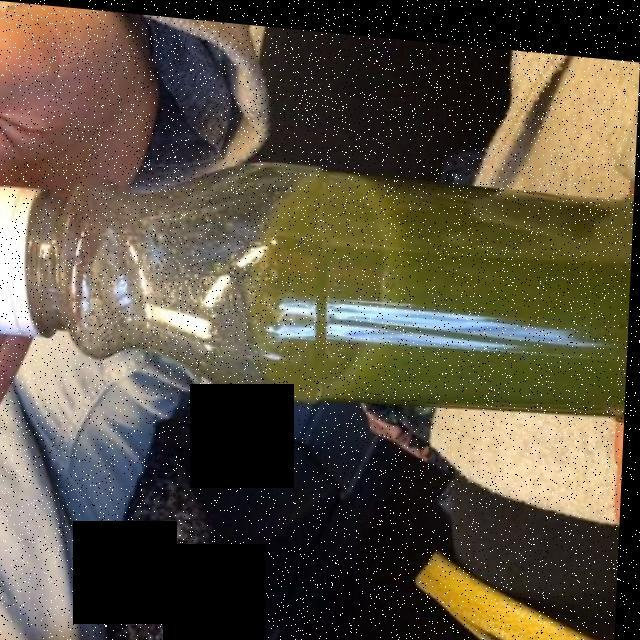smoothie: (261, 162, 616, 407)
